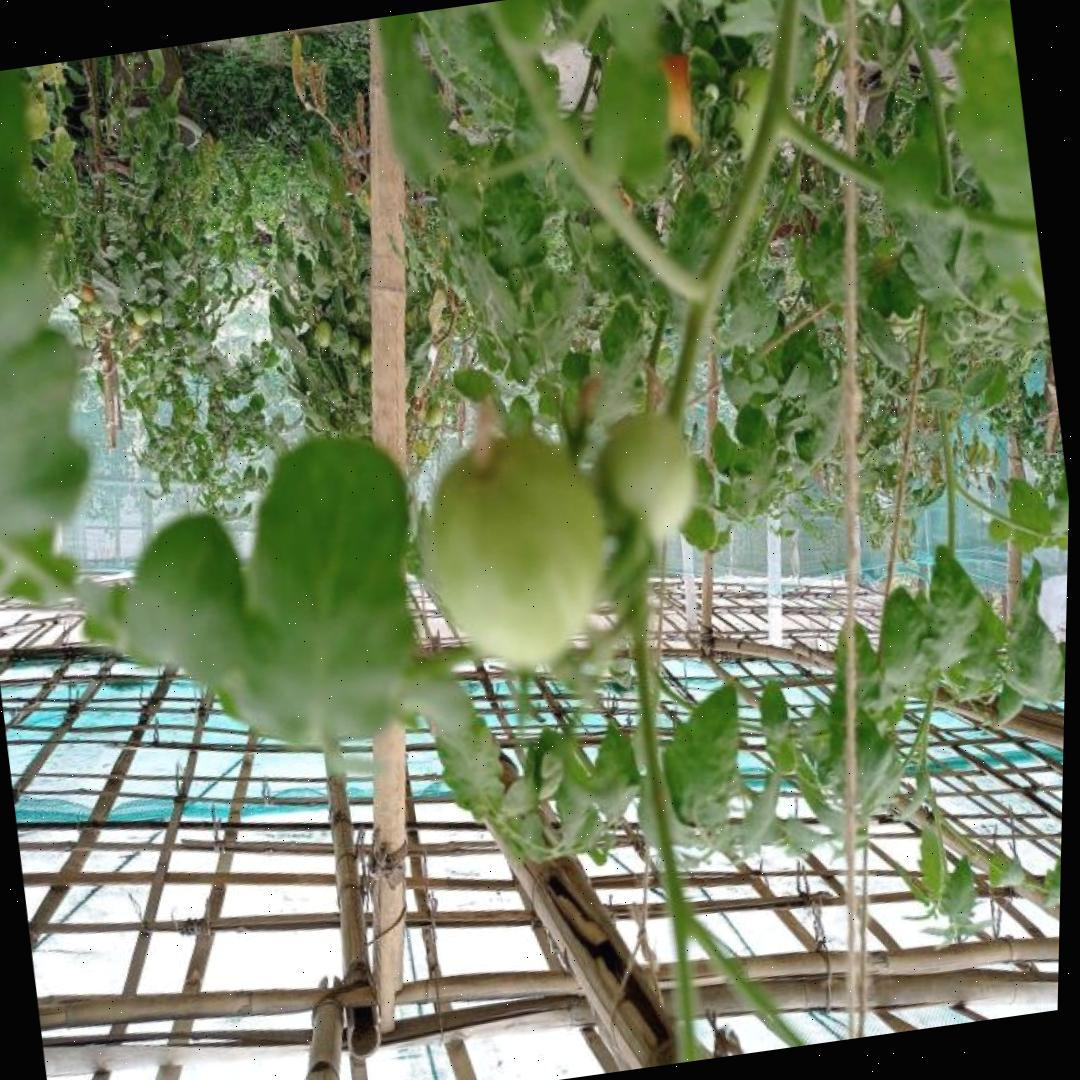mentah: (412, 419, 629, 676), (597, 406, 702, 547), (314, 323, 332, 347)
